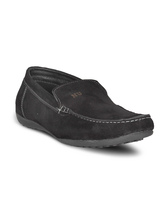shoes: (8, 64, 160, 155)
